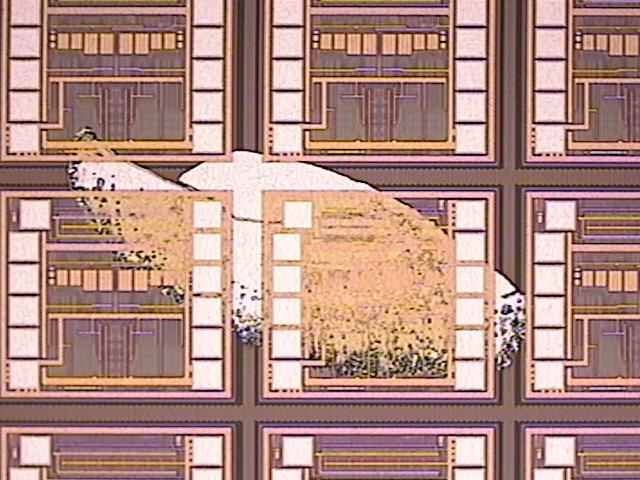BLOCK ETCH: (69, 130, 535, 386)
